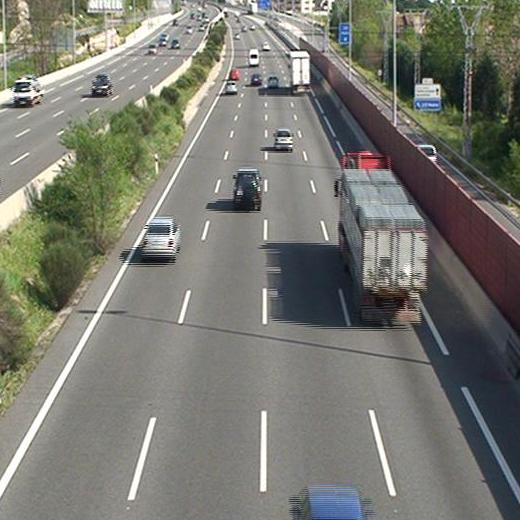car: (142, 219, 182, 256), (232, 169, 261, 207), (274, 129, 293, 150), (224, 82, 238, 95), (251, 73, 263, 85), (267, 76, 279, 87), (229, 69, 240, 80), (261, 42, 270, 49)
truck: (338, 153, 428, 322), (289, 50, 311, 93)
van: (247, 49, 260, 66)
